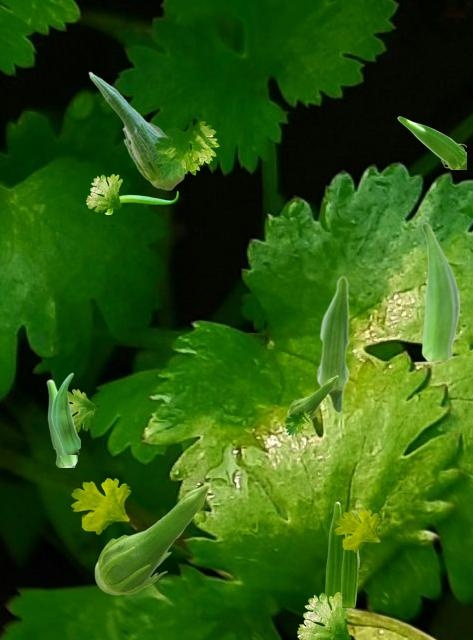okra: (94, 482, 210, 594), (88, 71, 185, 189), (421, 222, 459, 360), (316, 275, 349, 413), (397, 116, 465, 168), (46, 379, 76, 466), (51, 372, 79, 453), (287, 375, 337, 420), (325, 501, 344, 607), (104, 191, 177, 213), (341, 535, 358, 606)
